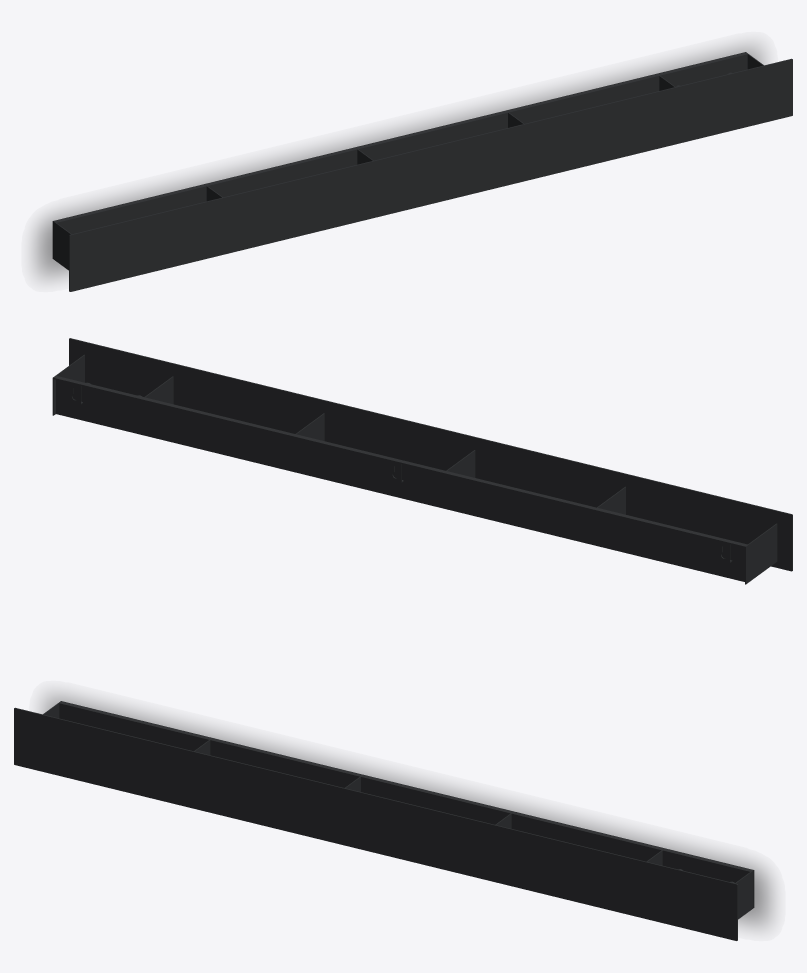
File: skyline-patron.a96699505e.ar.glb
The picture shows the model from 3 angles, top to bottom: view 1: azimuth 30°, elevation 25°; view 2: azimuth 150°, elevation 25°; view 3: azimuth 330°, elevation 25°; orthographic projection.
Visible parts, largest first — view 1: NAUO1, object 2; view 2: NAUO1; view 3: NAUO1, object 2.
Part boxes in pixels (x1,y1,x2,y2): NAUO1: (52, 52, 792, 291); object 2: (33, 45, 765, 278); NAUO1: (52, 338, 792, 584); NAUO1: (14, 701, 754, 940); object 2: (41, 694, 773, 927).
Bounding box in the file's own units: 1.28 × 0.17 × 0.092.
Materials: 2 (1 with a texture image).
